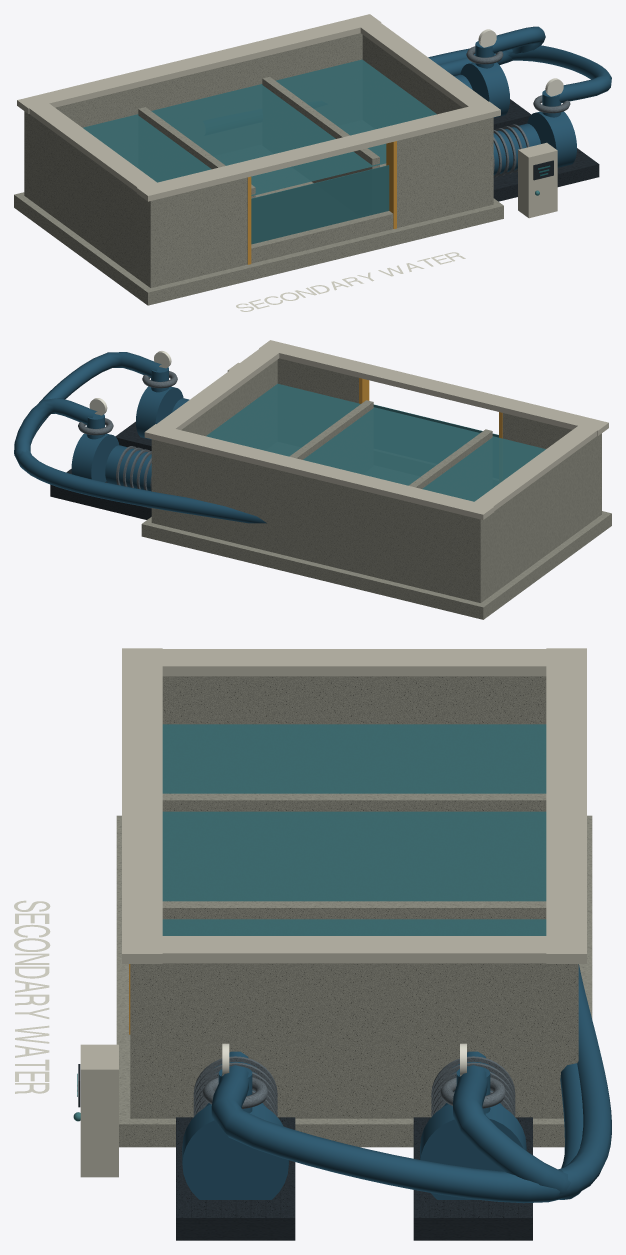
The model's file is steel-utilities.13594d573dee.glb.
3 renders of one model, top to bottom at view 1: azimuth 30°, elevation 25°; view 2: azimuth 150°, elevation 25°; view 3: azimuth 270°, elevation 25°, orthographic. The views are drawn at different scales.
Visible parts, largest first — view 1: structure_concrete_00056, bounded_free_surface_00012, structure_cream_00059, structure_blue_00061, structure_water_00057, structure_dark_00060, structure_white_00063, structure_steel_00062, structure_yellow_00058; view 2: structure_concrete_00056, bounded_free_surface_00012, structure_cream_00059, structure_blue_00061, structure_dark_00060, structure_steel_00062, structure_white_00063, structure_water_00057; view 3: structure_concrete_00056, bounded_free_surface_00012, structure_cream_00059, structure_blue_00061, structure_dark_00060, structure_steel_00062, structure_white_00063.
Boxes of the visible parts, left/top/right/bottom form: structure_concrete_00056: left=14, top=33, right=503, bottom=305; bounded_free_surface_00012: left=83, top=59, right=436, bottom=195; structure_cream_00059: left=17, top=14, right=557, bottom=218; structure_blue_00061: left=428, top=26, right=611, bottom=175; structure_water_00057: left=251, top=165, right=389, bottom=244; structure_dark_00060: left=493, top=99, right=599, bottom=201; structure_white_00063: left=236, top=29, right=563, bottom=311; structure_steel_00062: left=466, top=46, right=570, bottom=177; structure_yellow_00058: left=247, top=141, right=396, bottom=264; structure_concrete_00056: left=141, top=358, right=611, bottom=619; bounded_free_surface_00012: left=206, top=383, right=545, bottom=501; structure_cream_00059: left=144, top=340, right=608, bottom=519; structure_blue_00061: left=14, top=352, right=266, bottom=523; structure_dark_00060: left=50, top=421, right=151, bottom=519; structure_steel_00062: left=78, top=371, right=177, bottom=491; structure_white_00063: left=89, top=351, right=171, bottom=415; structure_water_00057: left=373, top=404, right=498, bottom=437; structure_concrete_00056: left=116, top=676, right=592, bottom=1147; bounded_free_surface_00012: left=162, top=724, right=546, bottom=935; structure_cream_00059: left=80, top=648, right=586, bottom=1177; structure_blue_00061: left=182, top=964, right=611, bottom=1203; structure_dark_00060: left=78, top=1064, right=532, bottom=1240; structure_steel_00062: left=193, top=1056, right=515, bottom=1116; structure_white_00063: left=14, top=900, right=466, bottom=1093.
Bounding box in the file's own units: 12.44 × 2.55 × 7.04.
10 materials, 3 textured.
